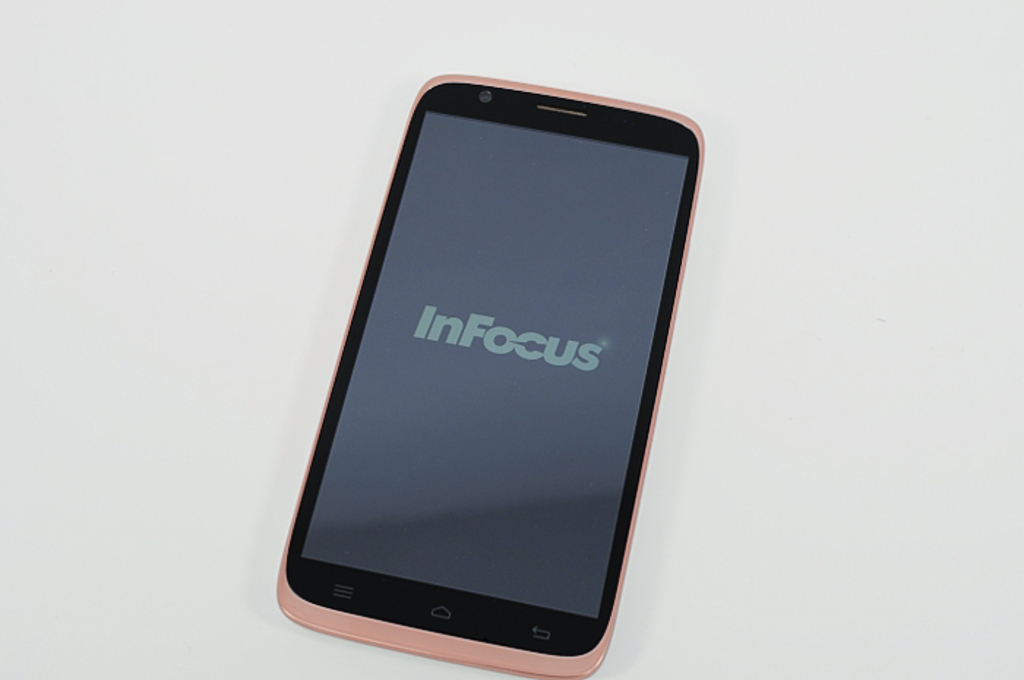mobile phone: (270, 67, 706, 678)
